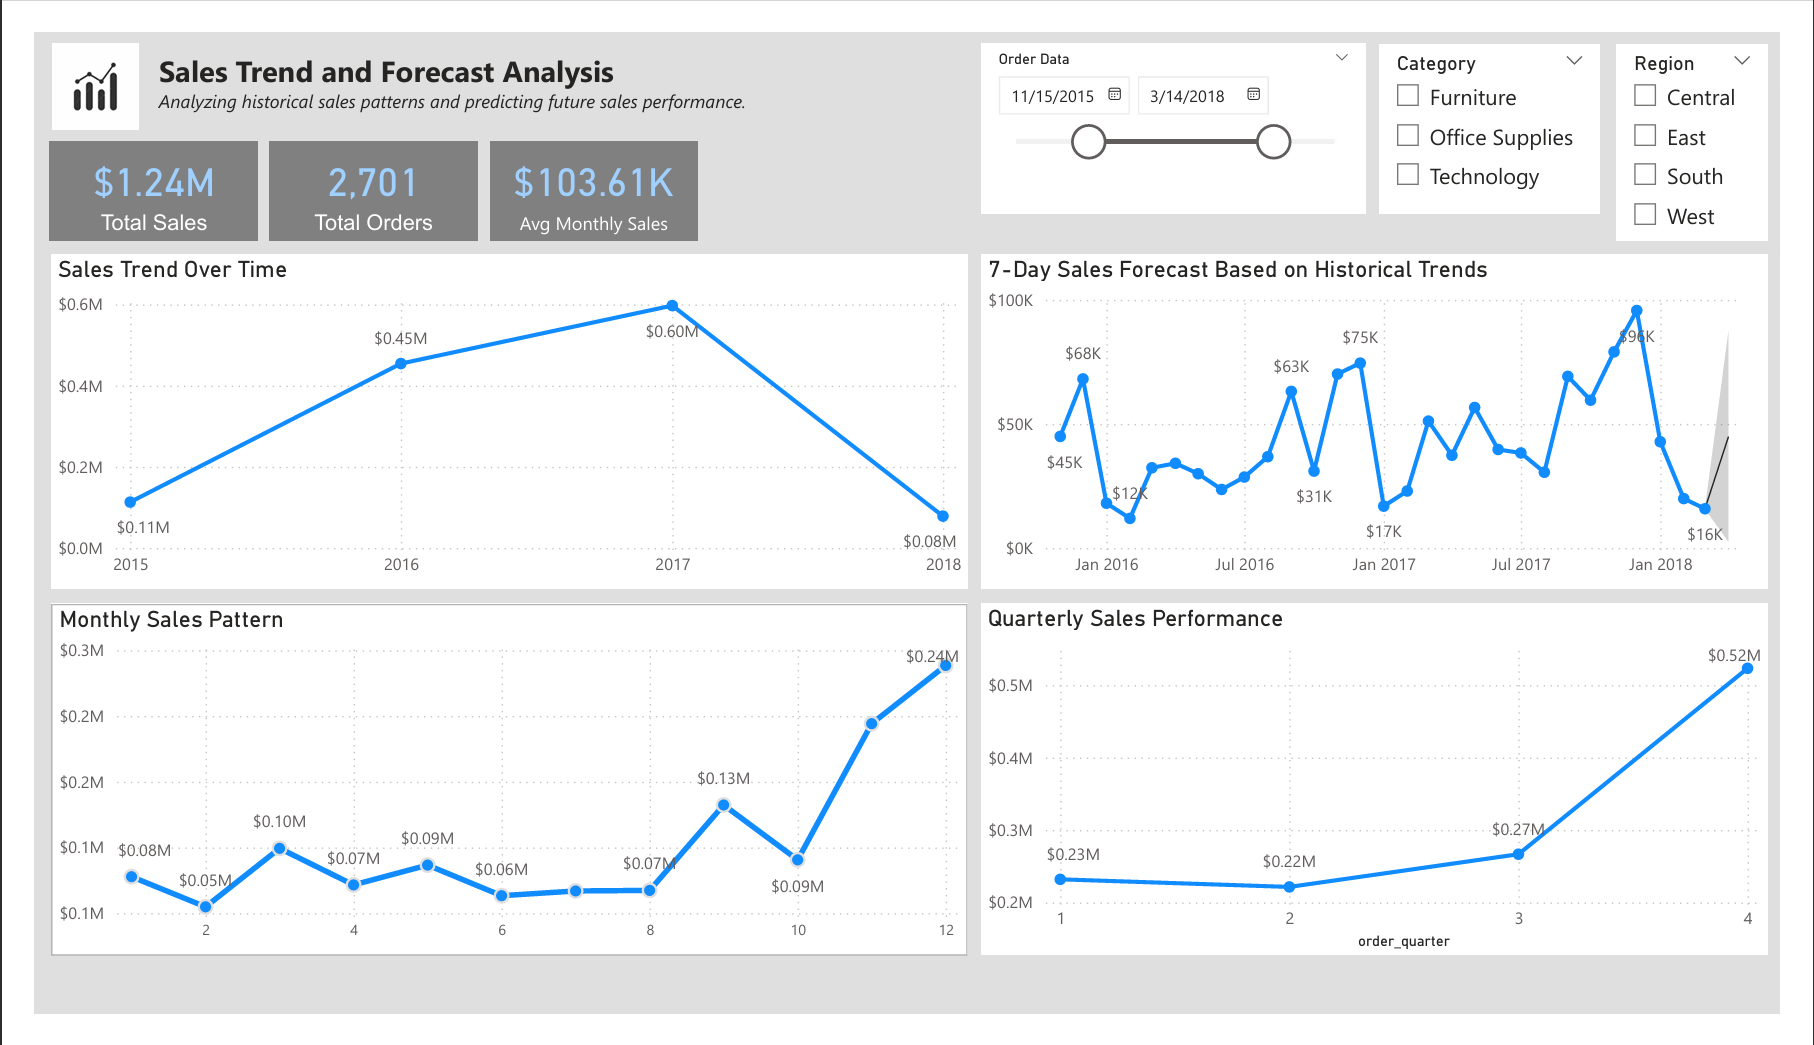

This screenshot's page, from the dashboard's own definition file:
{"tool":"powerbi","page":{"name":"📈 Dashboard 2 — Sales Trends & Forecasting","canvas":[1280,720],"ordinal":1},"visuals":[{"type":"textbox","box":[85.7,8.1,715.6,62.5],"z":0},{"type":"card","fields":{"Values":["superstore_clean.Total Sales"]},"box":[11.1,79.6,153.2,73.6],"z":1000},{"type":"card","fields":{"Values":["superstore_clean.Total Orders"]},"box":[171.8,80,153.6,72.7],"z":2000},{"type":"card","fields":{"Values":["superstore_clean.Avg Monthly Sales"]},"box":[333.6,80,152.7,72.7],"z":3000},{"type":"lineChart","title":"Monthly Sales Pattern","fields":{"Category":["superstore_clean.order_month"],"Y":["Sum(superstore_clean.sales)"]},"box":[11.9,419.5,671.8,257.7],"z":11000},{"type":"image","box":[8.1,8.1,72.6,62.5],"z":13000},{"type":"lineChart","title":"Sales Trend Over Time","fields":{"Category":["superstore_clean.order_date.Variation.Date Hierarchy.Year","superstore_clean.order_date.Variation.Date Hierarchy.Quarter","superstore_clean.order_date.Variation.Date Hierarchy.Month","superstore_clean.order_date.Variation.Date Hierarchy.Day"],"Y":["Sum(superstore_clean.sales)"]},"box":[11.9,162.8,671.8,244.8],"z":13001},{"type":"lineChart","title":"Quarterly Sales Performance","fields":{"Category":["superstore_clean.order_quarter"],"Y":["Sum(superstore_clean.sales)"]},"box":[694.5,419.5,576.9,257.7],"z":13003},{"type":"lineChart","title":"7-Day Sales Forecast Based on Historical Trends","fields":{"Category":["superstore_clean.order_date.Variation.Date Hierarchy.Year","superstore_clean.order_date.Variation.Date Hierarchy.Month"],"Y":["Sum(superstore_clean.sales)"]},"box":[694.5,162.8,576.9,244.8],"z":13004},{"type":"slicer","fields":{"Values":["superstore_clean.order_date"]},"box":[694.5,7.5,281.4,125.1],"z":13005},{"type":"slicer","fields":{"Values":["superstore_clean.category"]},"box":[985.6,8.6,162.8,124],"z":13006},{"type":"slicer","fields":{"Values":["superstore_clean.region"]},"box":[1160,8.8,111.2,143.8],"z":13007}]}

Visuals, with their boxes in screenshot pixels (x1, y1, x2, y2), scaled from the page's 1280x720 canvas onto the 1814x1045 screenshot:
textbox: l=121, t=12, r=1136, b=102
card - superstore_clean.Total Sales: l=16, t=116, r=233, b=222
card - superstore_clean.Total Orders: l=243, t=116, r=461, b=222
card - superstore_clean.Avg Monthly Sales: l=473, t=116, r=689, b=222
"Monthly Sales Pattern" lineChart: l=17, t=609, r=969, b=983
image: l=11, t=12, r=114, b=102
"Sales Trend Over Time" lineChart: l=17, t=236, r=969, b=592
"Quarterly Sales Performance" lineChart: l=984, t=609, r=1802, b=983
"7-Day Sales Forecast Based on Historical Trends" lineChart: l=984, t=236, r=1802, b=592
slicer - superstore_clean.order_date: l=984, t=11, r=1383, b=192
slicer - superstore_clean.category: l=1397, t=12, r=1627, b=192
slicer - superstore_clean.region: l=1644, t=13, r=1802, b=221
